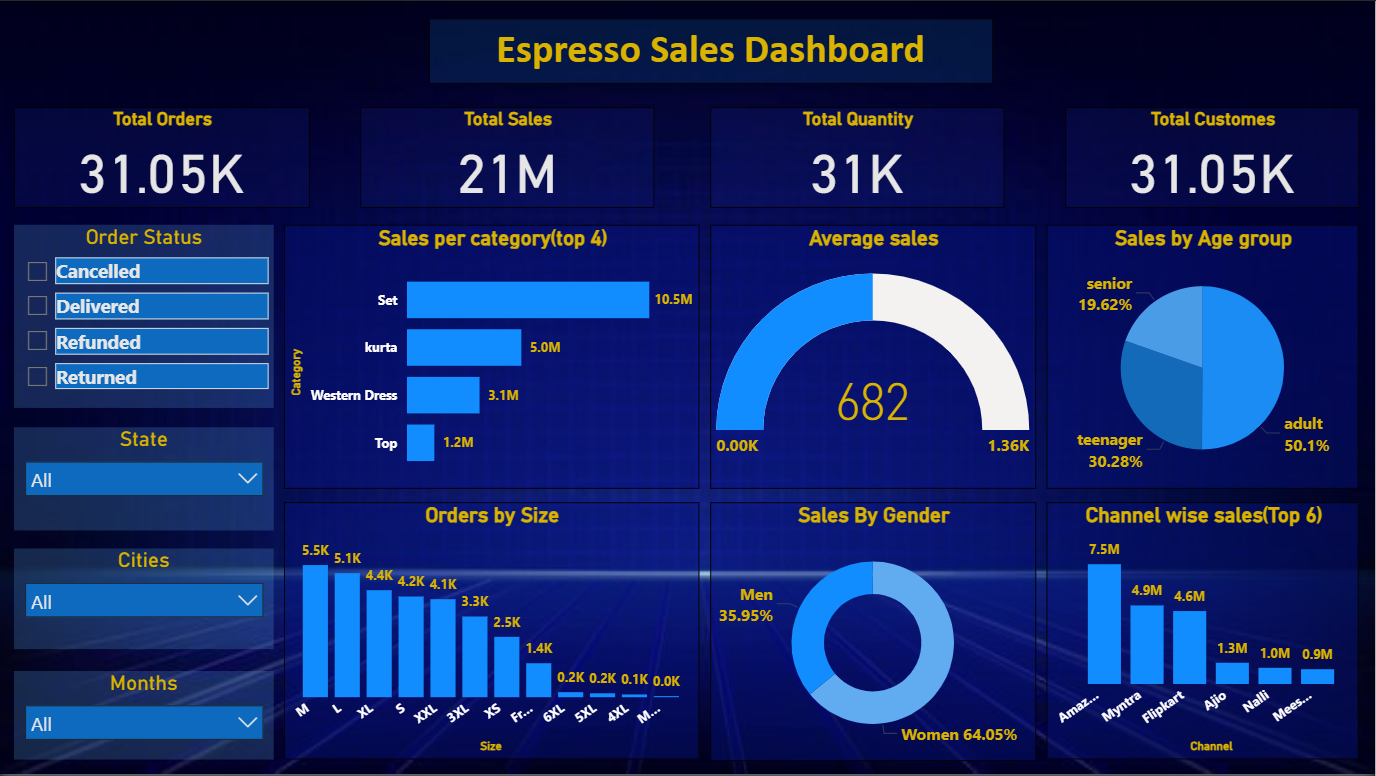

What the dashboard file says about the page in this screenshot:
{"tool":"powerbi","page":{"name":"Page 1","canvas":[1280,720],"ordinal":0},"visuals":[{"type":"columnChart","title":"Channel wise sales(Top 6)","fields":{"Category":["espresso store.Channel "],"Y":["Sum(espresso store.Amount)"]},"box":[974.2,466.3,290.8,239.3],"z":0},{"type":"barChart","title":"Sales per category(top 4)","fields":{"Category":["espresso store.Category"],"Y":["Sum(espresso store.Amount)"]},"box":[265,208.6,386.5,245.4],"z":1000},{"type":"pieChart","title":"Sales by Age group","fields":{"Y":["Sum(espresso store.Amount)"],"Category":["espresso store.age group"]},"box":[974.2,208.6,290.8,245.4],"z":2000},{"type":"donutChart","title":"Sales By Gender","fields":{"Category":["espresso store.Gender"],"Y":["Sum(espresso store.Amount)"]},"box":[661.4,466.3,303.1,240.5],"z":3000},{"type":"gauge","title":"Average sales","fields":{"Y":["Avg(espresso store.Amount)"]},"box":[661.4,208.6,303.1,245.4],"z":4000},{"type":"slicer","title":"State","fields":{"Values":["espresso store.ship-state"]},"box":[13.5,396.3,241.7,95.7],"z":5000},{"type":"slicer","title":"Cities","fields":{"Values":["espresso store.ship-city"]},"box":[13.5,509.2,241.7,93.3],"z":6000},{"type":"slicer","title":"Months","fields":{"Values":["espresso store.month"]},"box":[13.5,623.3,241.7,82.2],"z":7000},{"type":"card","title":"Total Orders","fields":{"Values":["CountNonNull(espresso store.Order ID)"]},"box":[13.5,99.4,274.8,93.3],"z":8000},{"type":"card","title":"Total Sales ","fields":{"Values":["Sum(espresso store.Amount)"]},"box":[336.2,99.4,273.6,93.3],"z":9000},{"type":"card","title":"Total Quantity","fields":{"Values":["Sum(espresso store.Qty)"]},"box":[661.4,99.4,273.6,93.3],"z":10000},{"type":"slicer","title":"Order Status","fields":{"Values":["espresso store.Status"]},"box":[13.5,208.6,241.7,170.6],"z":11000},{"type":"card","title":"Total Customes","fields":{"Values":["CountNonNull(espresso store.Cust ID)"]},"box":[991.4,99.4,273.6,93.3],"z":12000},{"type":"textbox","box":[336.2,16,762,61.4],"z":13000},{"type":"columnChart","title":"Orders by Size","fields":{"Category":["espresso store.Size"],"Y":["CountNonNull(espresso store.Order ID)"]},"box":[265,466.3,386.5,239.3],"z":14000}]}

Visuals, with their boxes in screenshot pixels (x1, y1, x2, y2), scaled from the page's 1280x720 canvas onto the 1376x776 screenshot:
"Channel wise sales(Top 6)" columnChart: box(1047, 503, 1360, 760)
"Sales per category(top 4)" barChart: box(285, 225, 700, 489)
"Sales by Age group" pieChart: box(1047, 225, 1360, 489)
"Sales By Gender" donutChart: box(711, 503, 1037, 762)
"Average sales" gauge: box(711, 225, 1037, 489)
"State" slicer: box(15, 427, 274, 530)
"Cities" slicer: box(15, 549, 274, 649)
"Months" slicer: box(15, 672, 274, 760)
"Total Orders" card: box(15, 107, 310, 208)
"Total Sales " card: box(361, 107, 656, 208)
"Total Quantity" card: box(711, 107, 1005, 208)
"Order Status" slicer: box(15, 225, 274, 409)
"Total Customes" card: box(1066, 107, 1360, 208)
textbox: box(361, 17, 1181, 83)
"Orders by Size" columnChart: box(285, 503, 700, 760)
